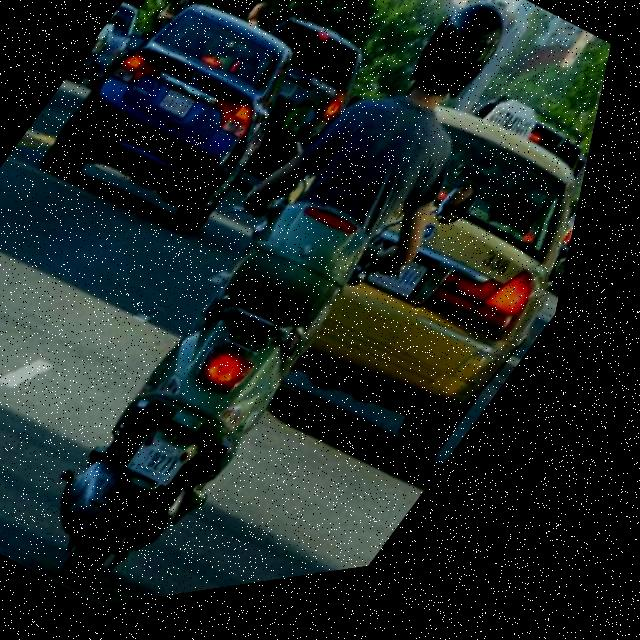license_plate: (374, 251, 454, 322), (158, 90, 206, 132), (274, 84, 308, 115)
